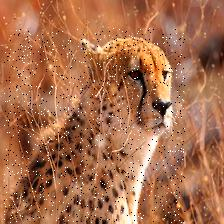Cheetha: (4, 29, 185, 224)
